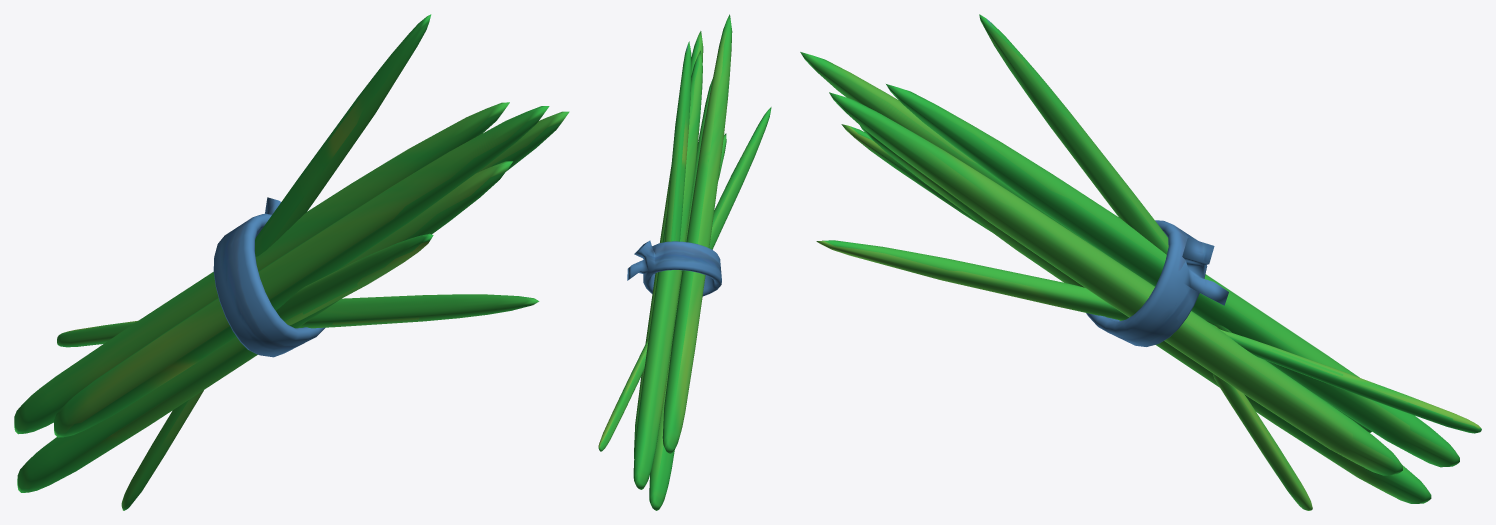
File: Item 7.fbx
The picture shows the model from 3 angles, left to right: view 1: azimuth 30°, elevation 25°; view 2: azimuth 150°, elevation 25°; view 3: azimuth 270°, elevation 25°; orthographic projection. The views are drawn at different scales.
Visible parts, largest first — view 1: Curva Bezier; view 2: Curva Bezier; view 3: Curva Bezier.
Boxes of the visible parts, x1,y1,x2,y2 form: Curva Bezier: (14, 14, 569, 510); Curva Bezier: (598, 14, 771, 510); Curva Bezier: (800, 14, 1481, 510).
Size of the model in its own units: 34.68 by 83.39 by 90.04.
